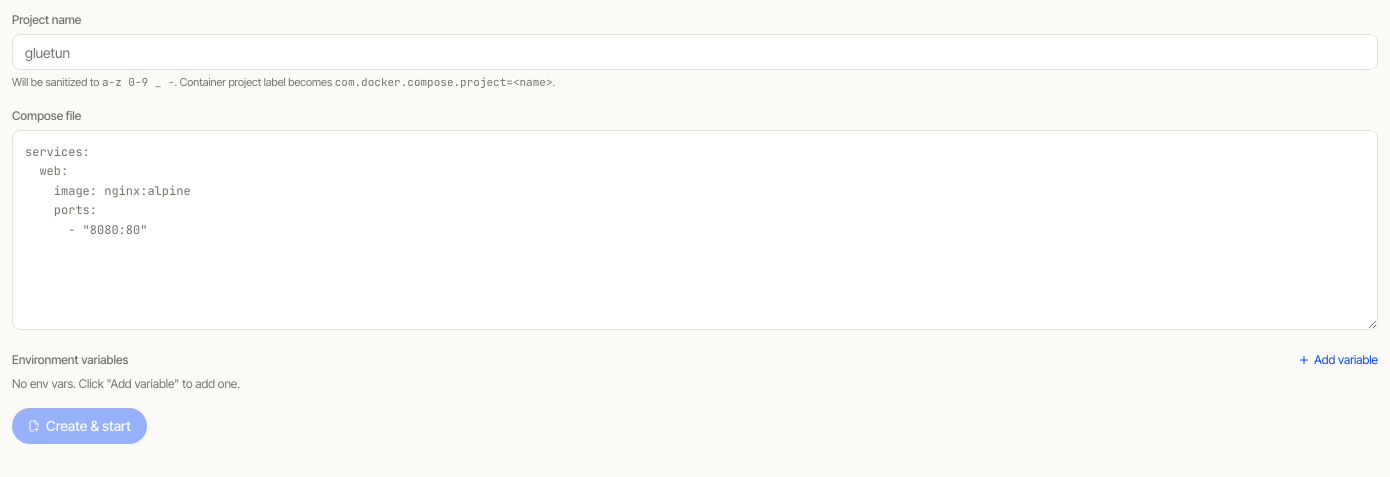
Scenario: AddComposeProjectForm › includes env vars and resets them after creating
In the field labelled "Project name": (695, 52) top-left (12, 34), bottom-right (1378, 70), type "web"
Click the text box named "Compose file content": click(695, 230) top-left (12, 130), bottom-right (1378, 330)
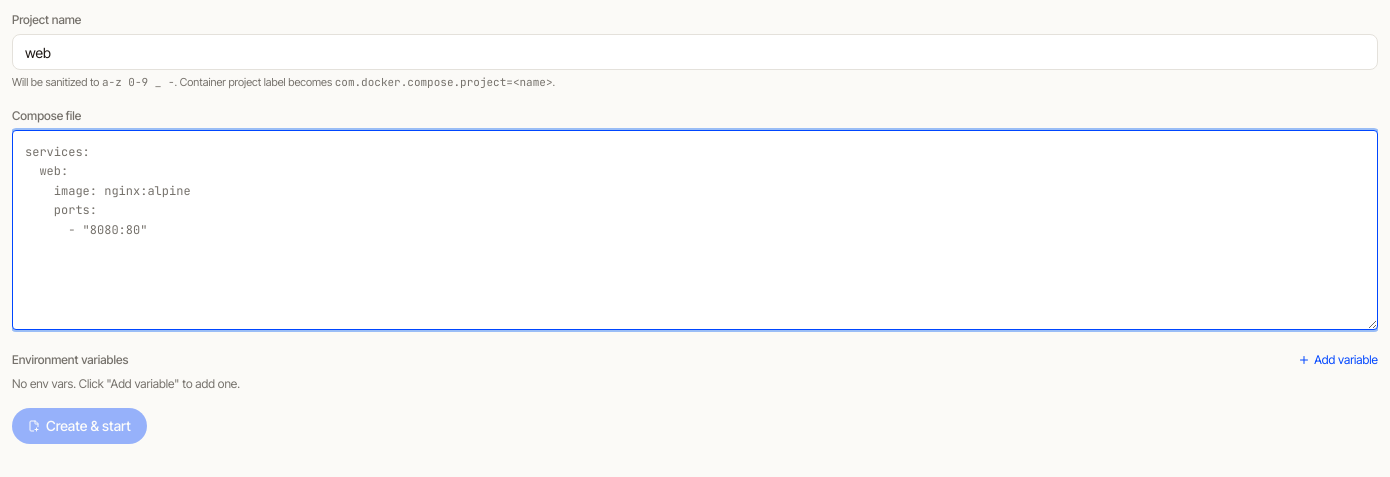
Type keys "services:   web:     image: nginx:alpine "
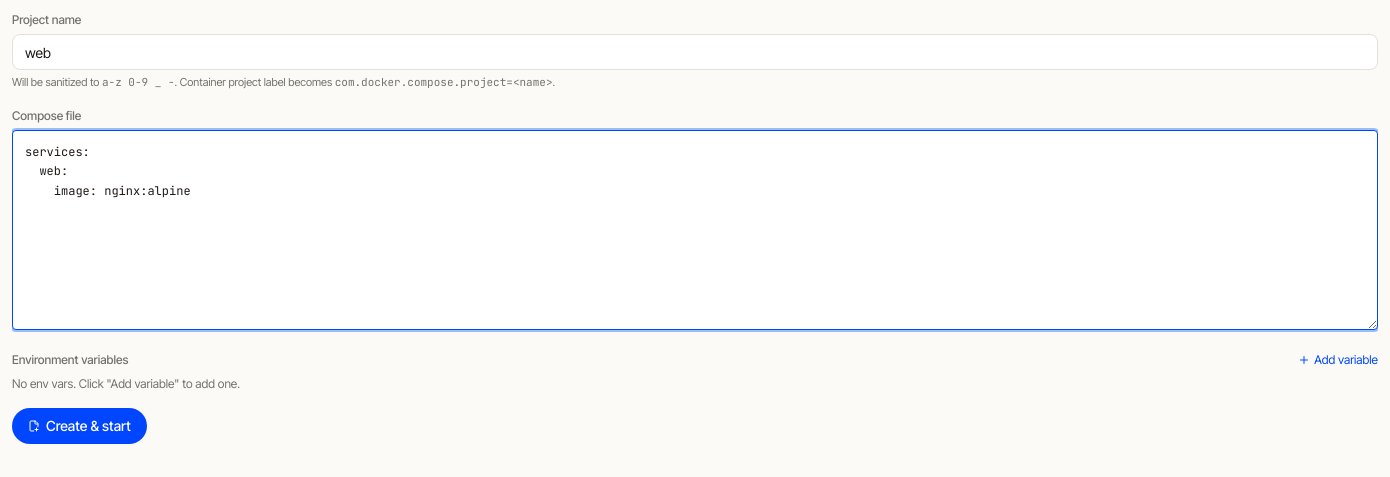
Click the button "Add variable": click(1338, 360) top-left (1298, 352), bottom-right (1378, 368)
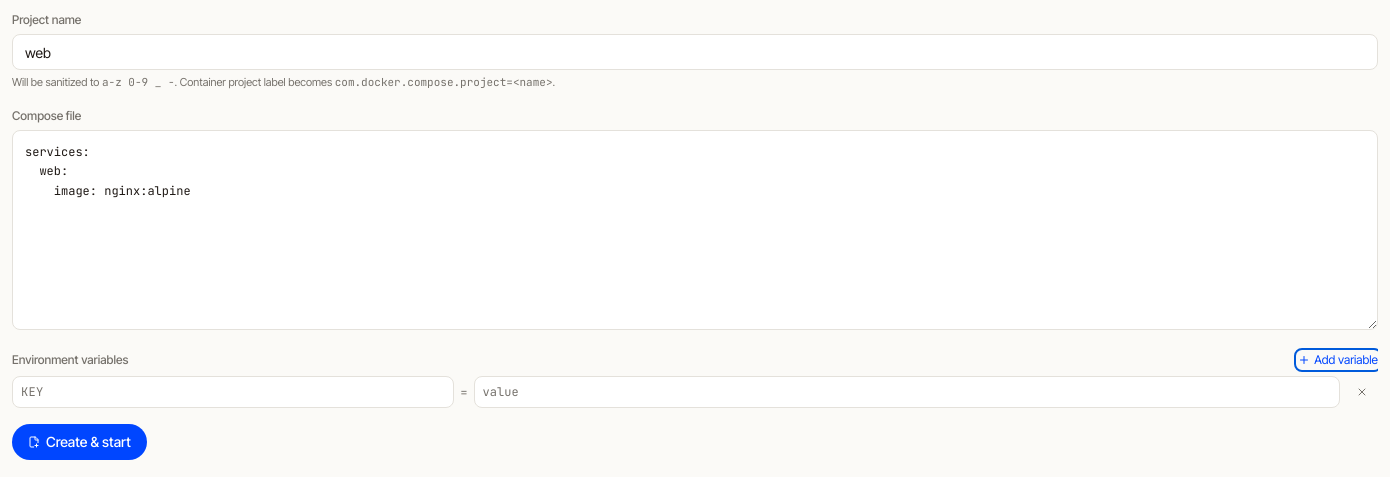
In the field with placeholder "KEY": (233, 392) top-left (12, 376), bottom-right (454, 408), type "TZ"
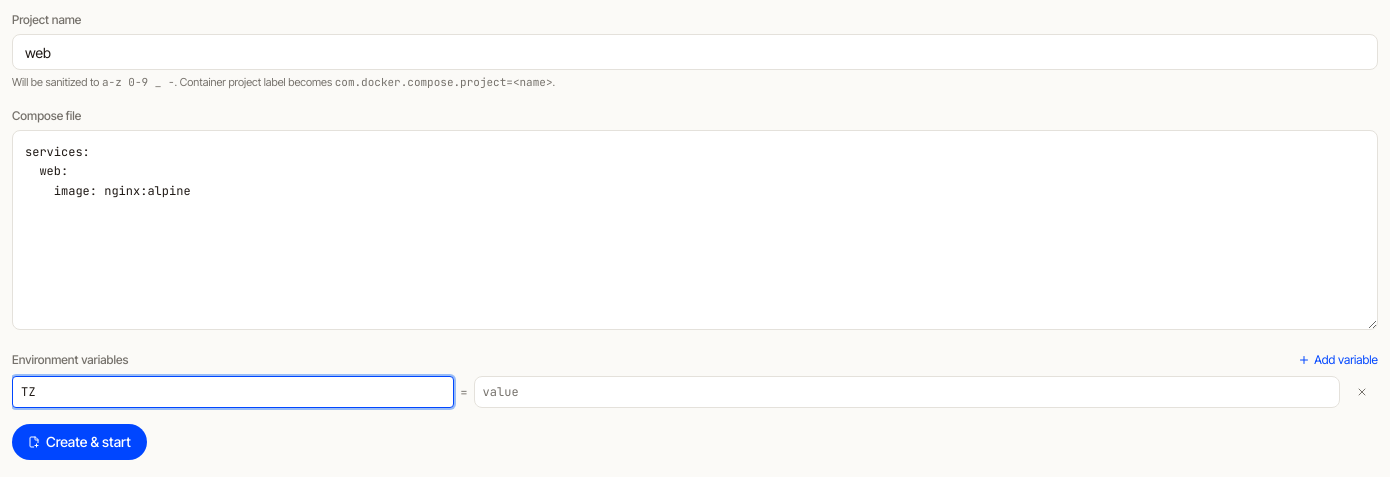
In the field with placeholder "value": (907, 392) top-left (474, 376), bottom-right (1340, 408), type "UTC"
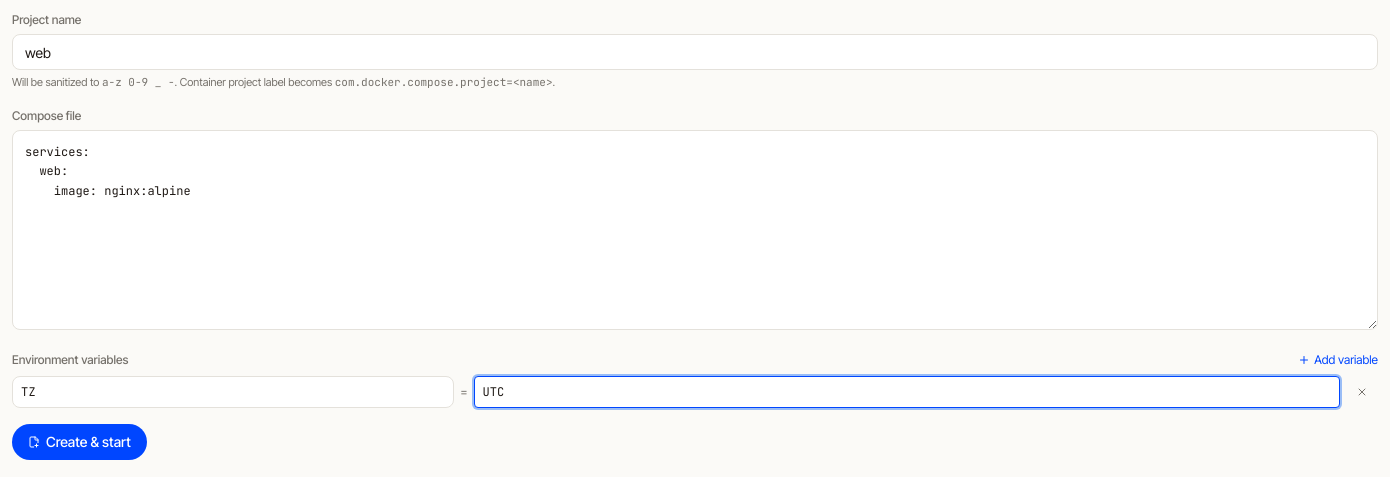
Click the button "Create & start": click(79, 442) top-left (12, 424), bottom-right (147, 460)
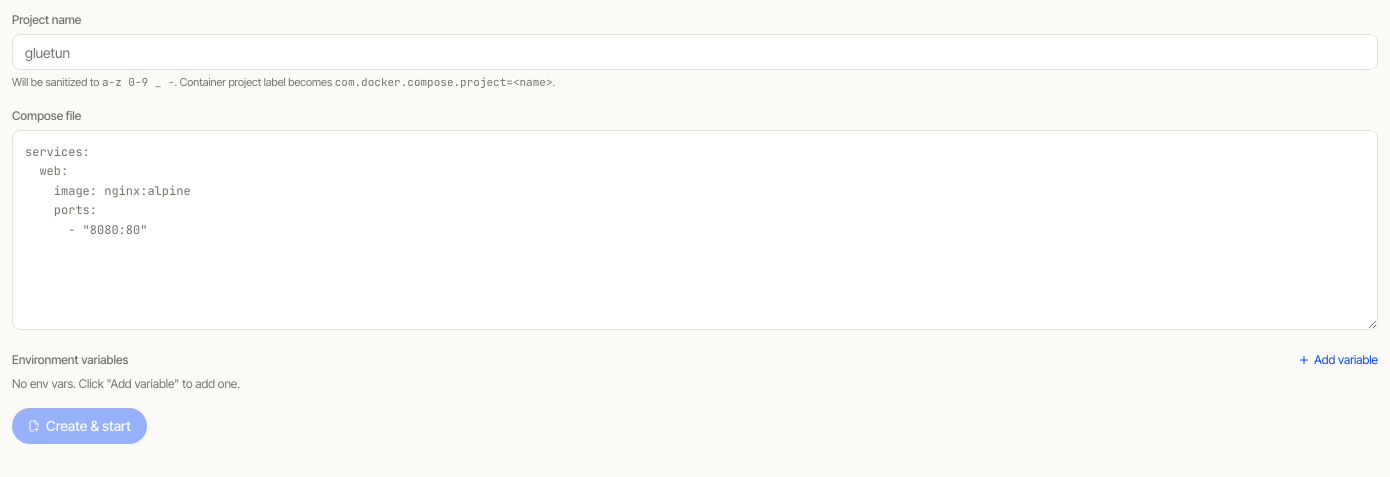
Now the field with placeholder "KEY" is gone
